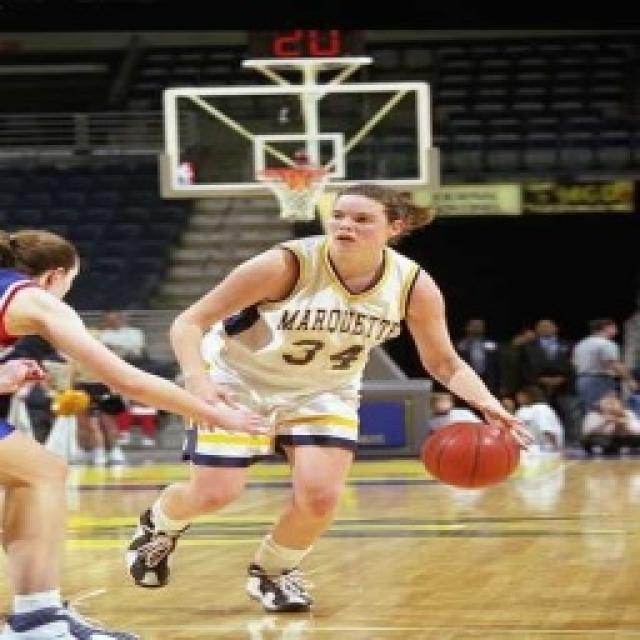rim: (415, 410, 523, 496)
